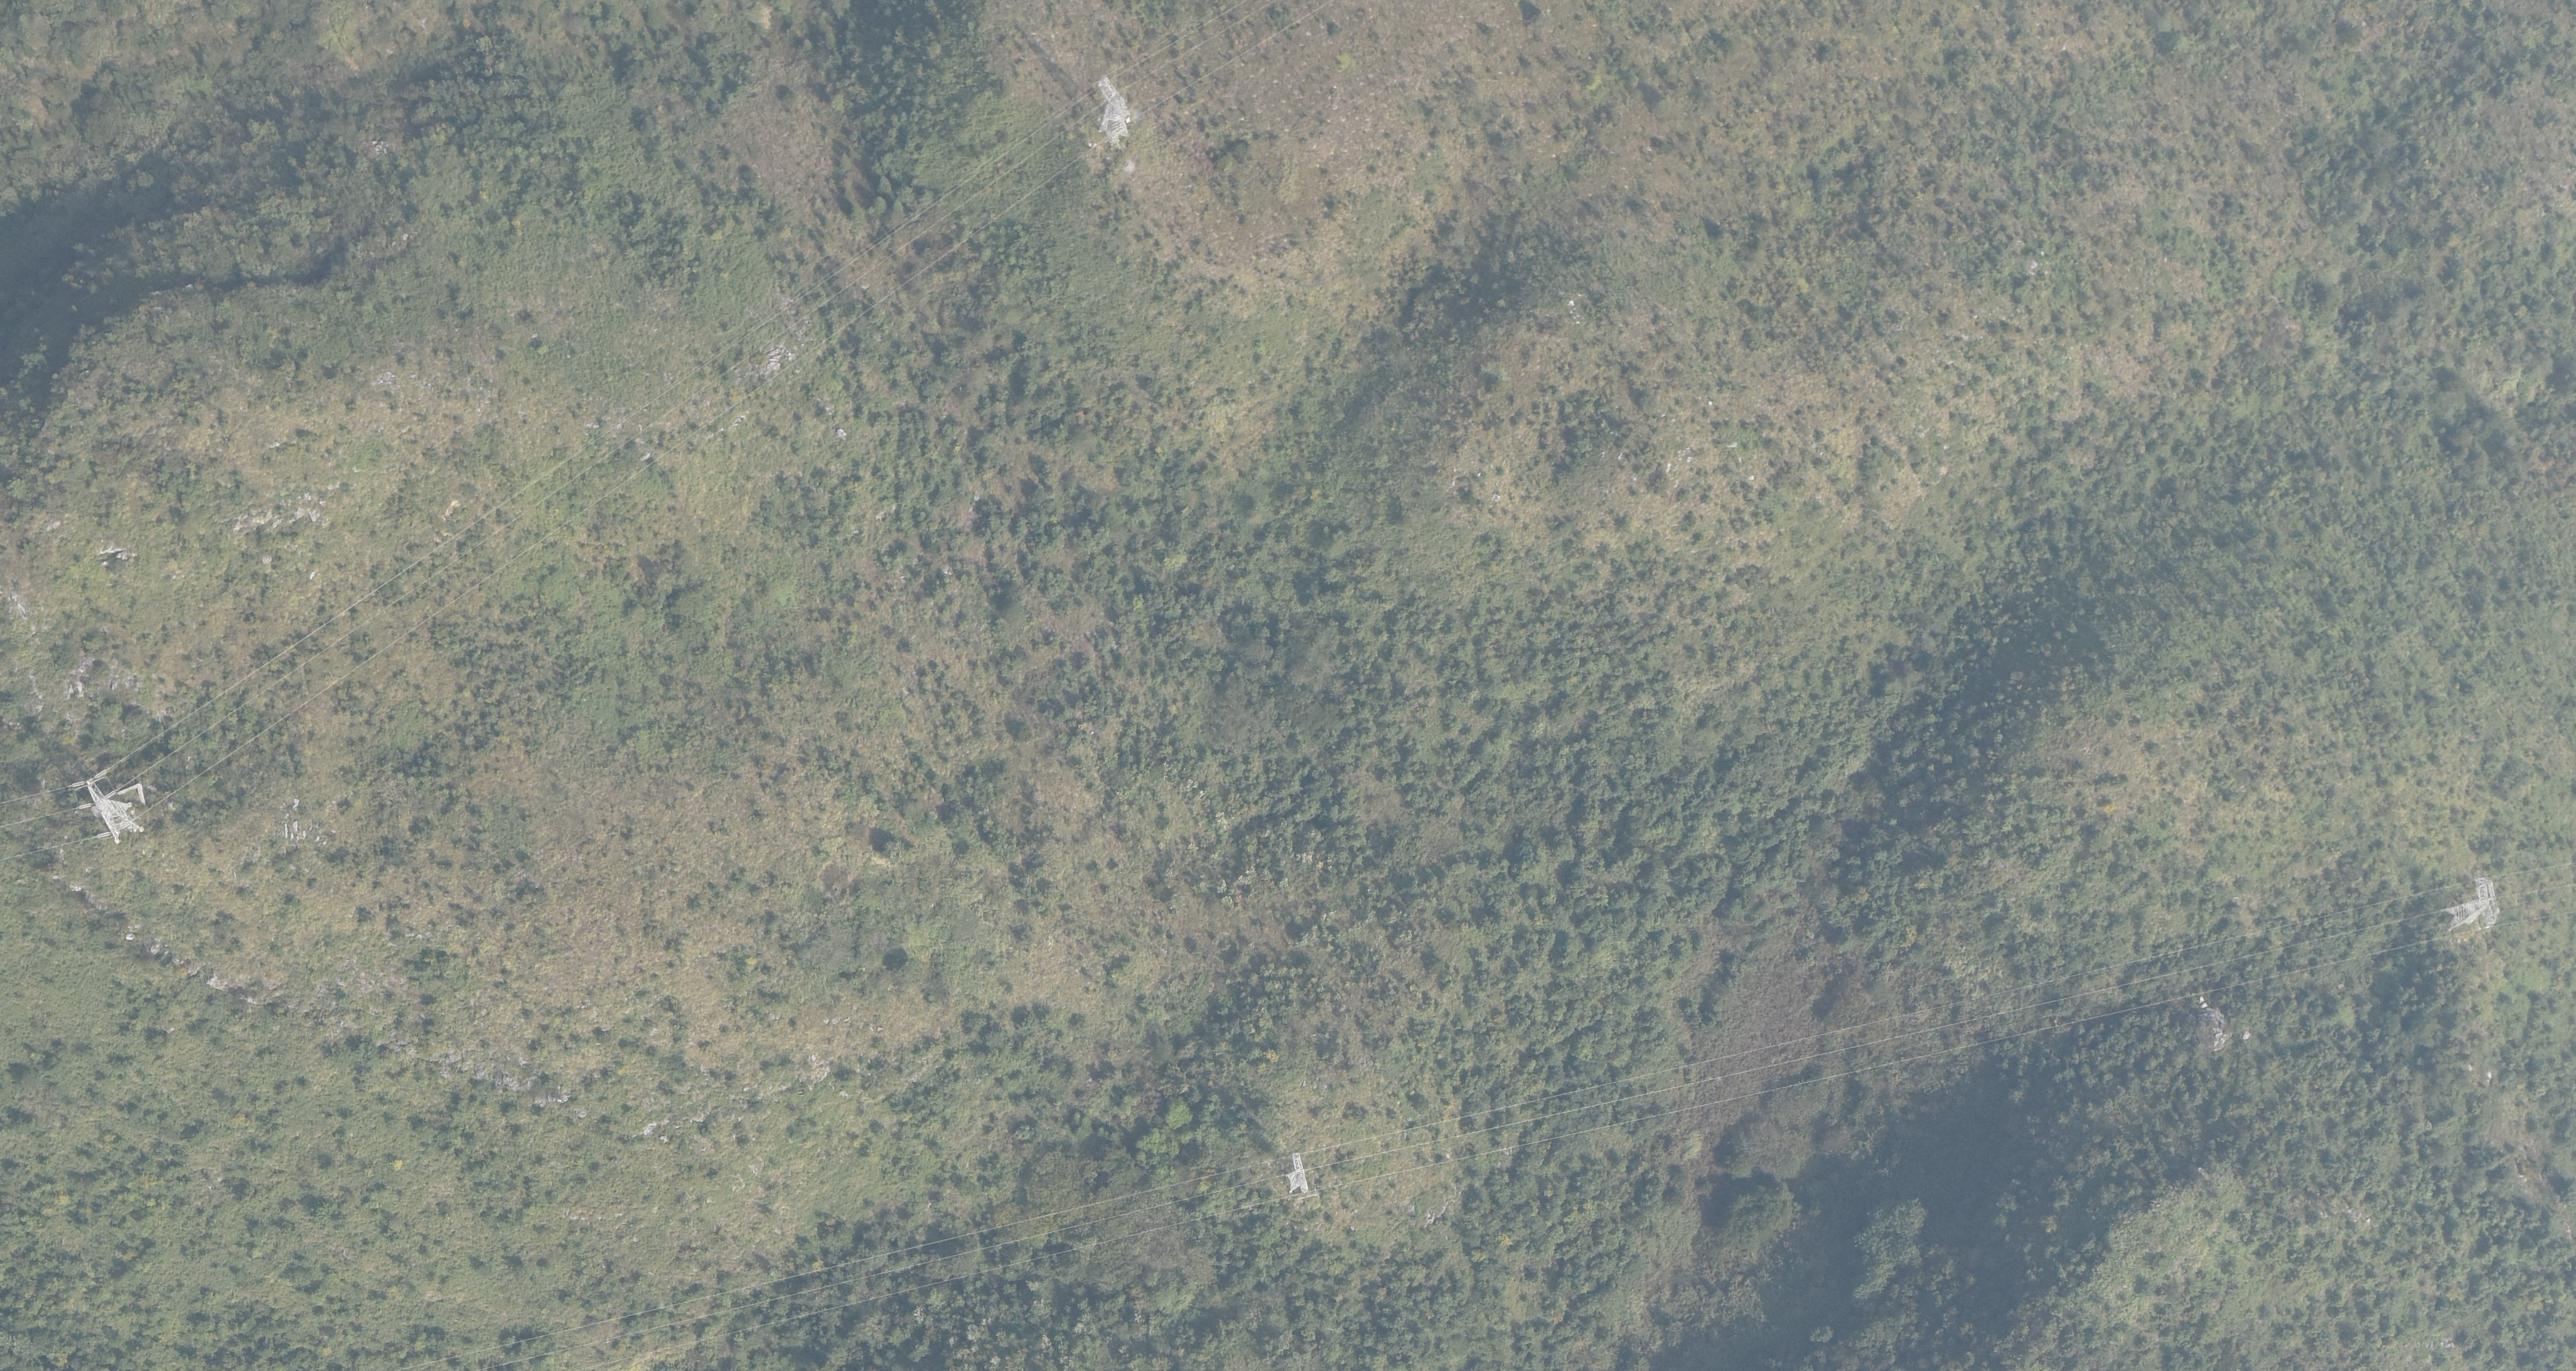cable-tower: (72, 770, 147, 845), (2445, 877, 2501, 932), (1097, 75, 1130, 150), (1285, 1151, 1310, 1194)
